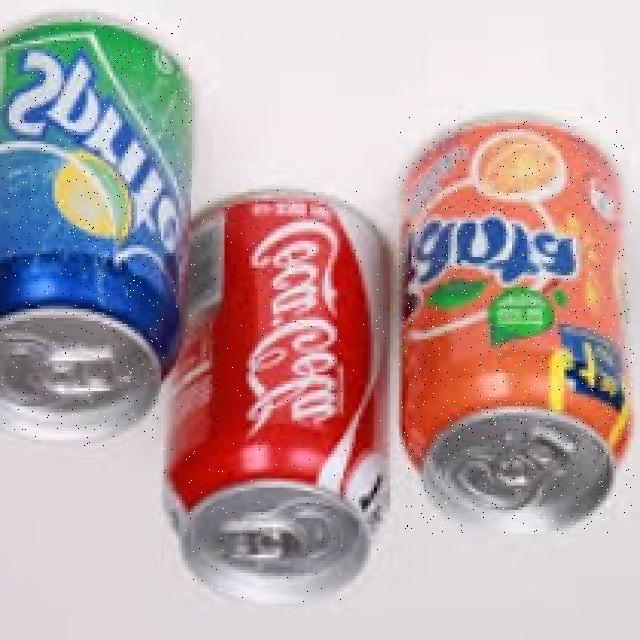metal: (399, 117, 634, 533), (161, 189, 386, 609), (0, 16, 192, 445)
